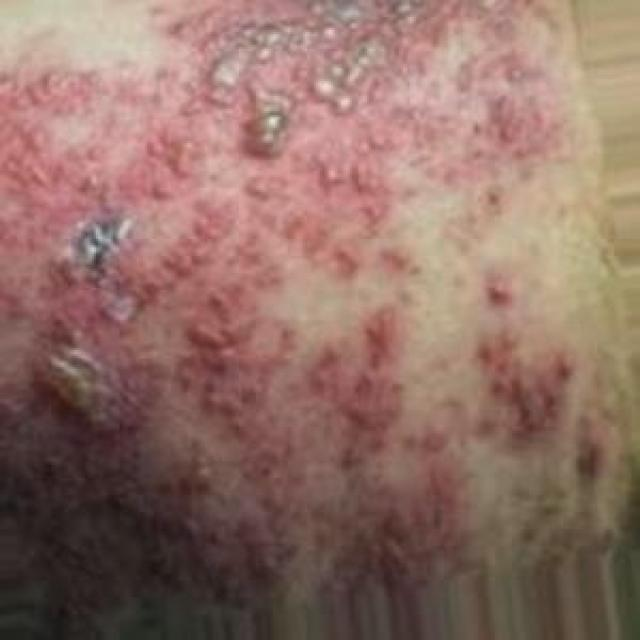Shingles: (0, 0, 574, 596)
